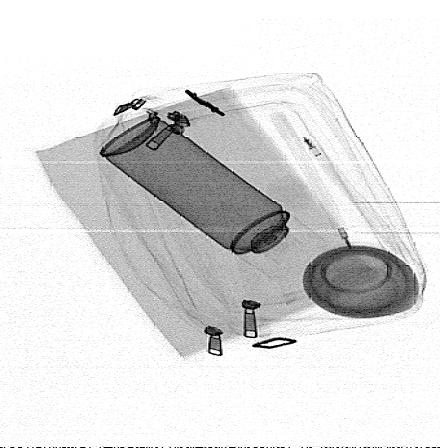Sprayer: (99, 117, 330, 279)
